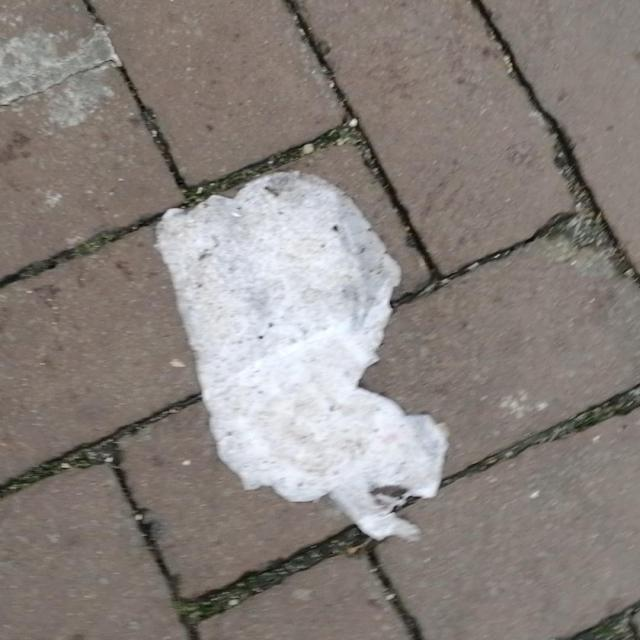Paper: (152, 169, 452, 544)
